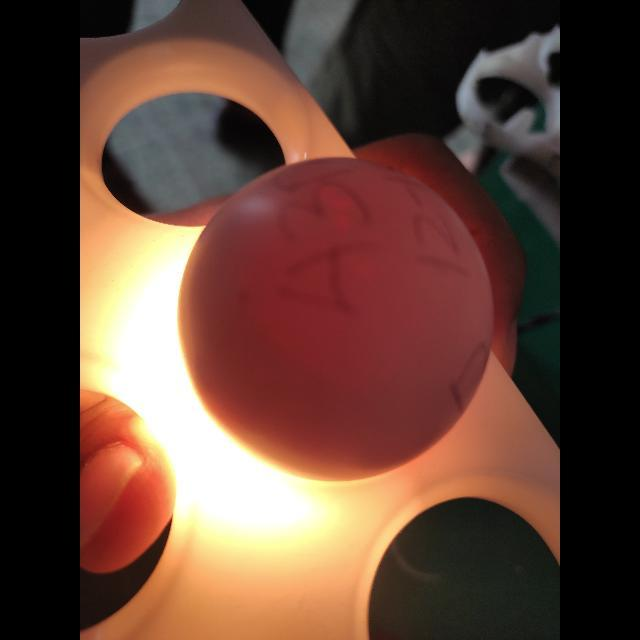B - Fair: (176, 150, 499, 488)
